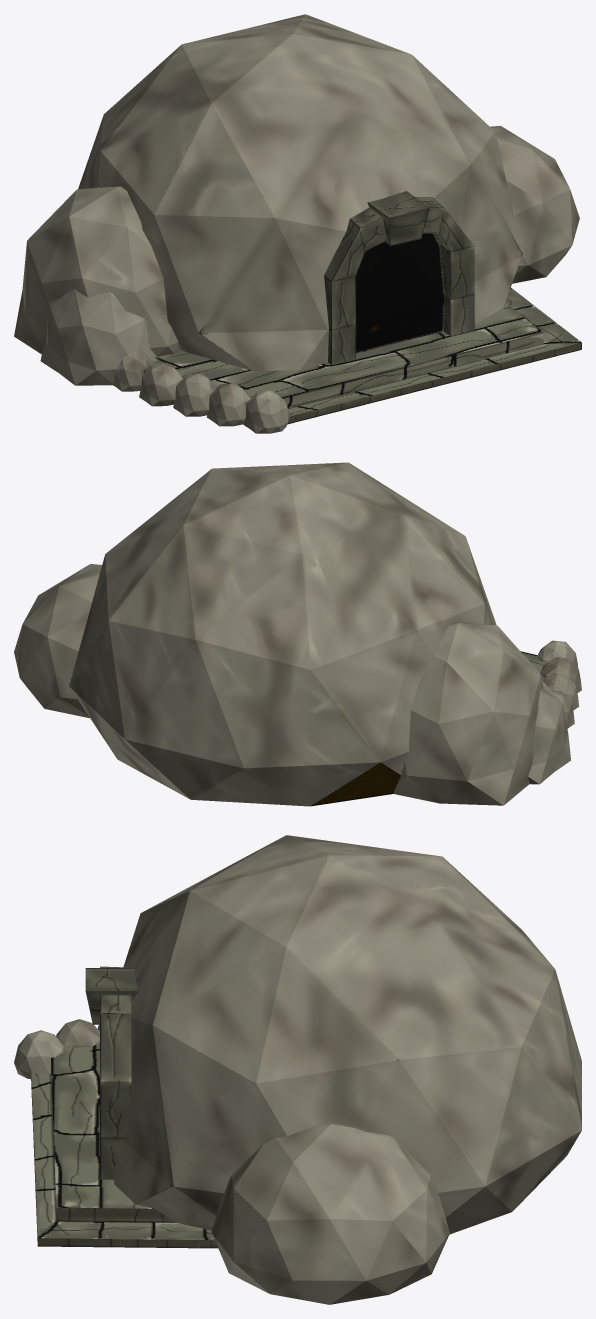
Rendered from mine.obj.
The picture shows the model from 3 angles, top to bottom: view 1: azimuth 30°, elevation 25°; view 2: azimuth 150°, elevation 25°; view 3: azimuth 270°, elevation 25°; orthographic projection. The views are drawn at different scales.
Visible parts, largest first — view 1: Plane.001_Plane.002; view 2: Plane.001_Plane.002; view 3: Plane.001_Plane.002.
Part boxes in pixels (bbox=[...]): Plane.001_Plane.002: bbox=[14, 14, 581, 433]; Plane.001_Plane.002: bbox=[14, 462, 581, 806]; Plane.001_Plane.002: bbox=[14, 835, 581, 1304].
Bounding box in the file's own units: 2.82 × 1.34 × 2.29.
1 material, 1 textured.
